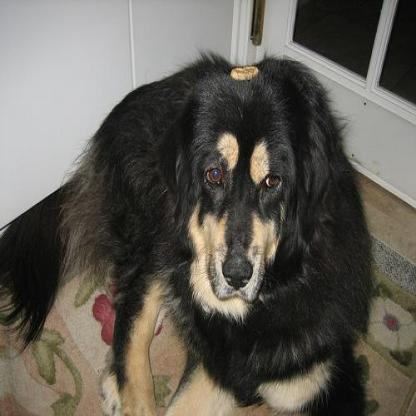Tibetan_mastiff: (0, 43, 379, 414)
